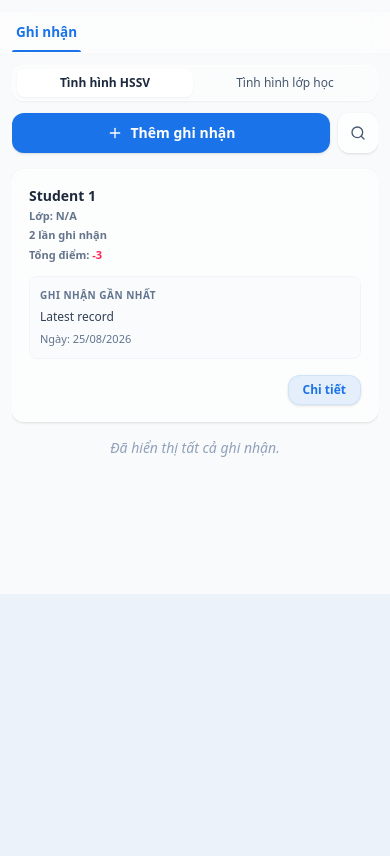
Test: StudentRecordPage Infinite Scroll › renders grouped totals and detail history from effectivePoints with signed values
expect the text "-3" is shown: met, box x1=92 y1=247 x2=102 y2=262
Click the button "Chi tiết" at coordinates (324, 390), box x1=288 y1=375 x2=361 y2=405
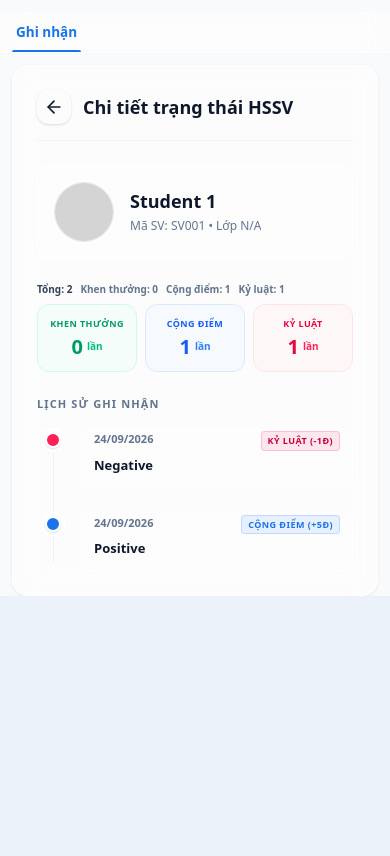
expect the text "Kỷ luật (-1đ)" is shown: met, box x1=260 y1=431 x2=340 y2=451
expect the text "Cộng điểm (+5đ)" is shown: met, box x1=241 y1=515 x2=340 y2=534
